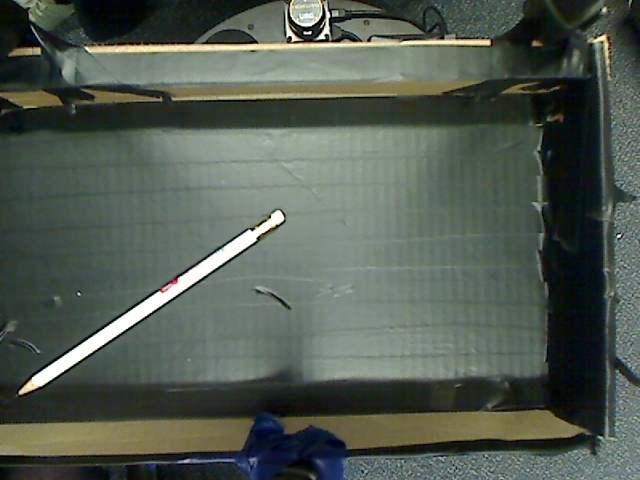pencil: (2, 201, 297, 410)
